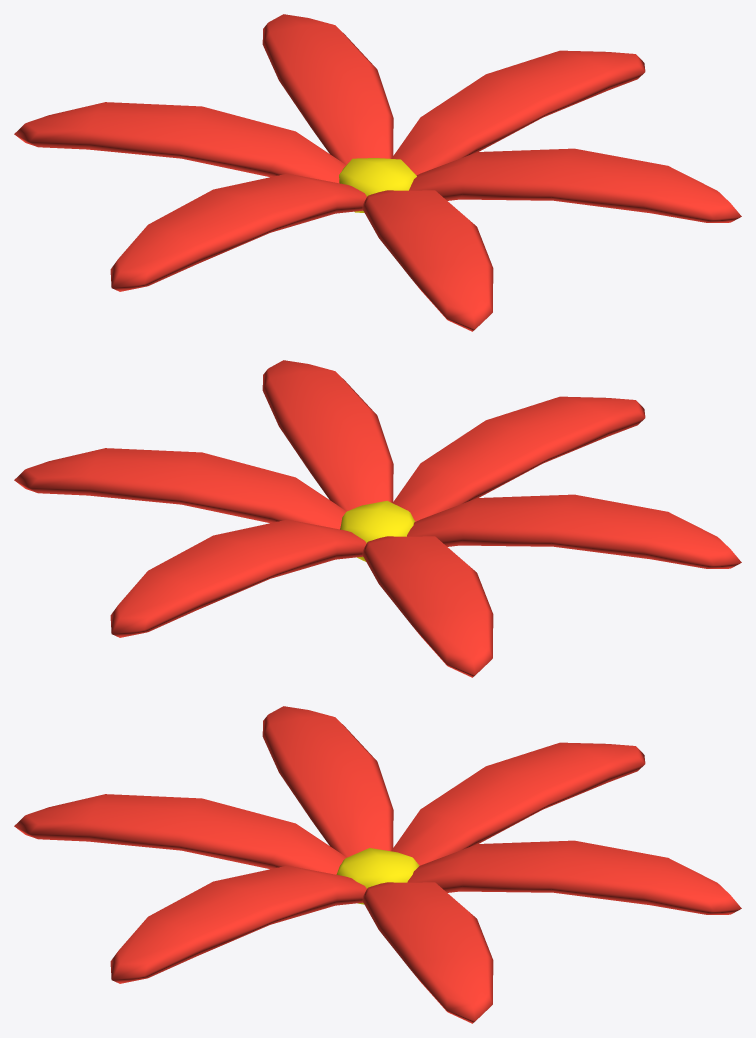
Rendered from Farm_7_Flower_1.glb.
The picture shows the model from 3 angles, top to bottom: view 1: azimuth 30°, elevation 25°; view 2: azimuth 150°, elevation 25°; view 3: azimuth 270°, elevation 25°; orthographic projection.
Visible parts, largest first — view 1: Farm_7_Flower_1; view 2: Farm_7_Flower_1; view 3: Farm_7_Flower_1.
Boxes of the visible parts, bbox=[...] form: Farm_7_Flower_1: bbox=[14, 14, 741, 331]; Farm_7_Flower_1: bbox=[14, 360, 741, 677]; Farm_7_Flower_1: bbox=[14, 706, 741, 1023].
Bounding box in the file's own units: 0.3552 × 0.0371 × 0.3552.
1 material, 1 textured.
